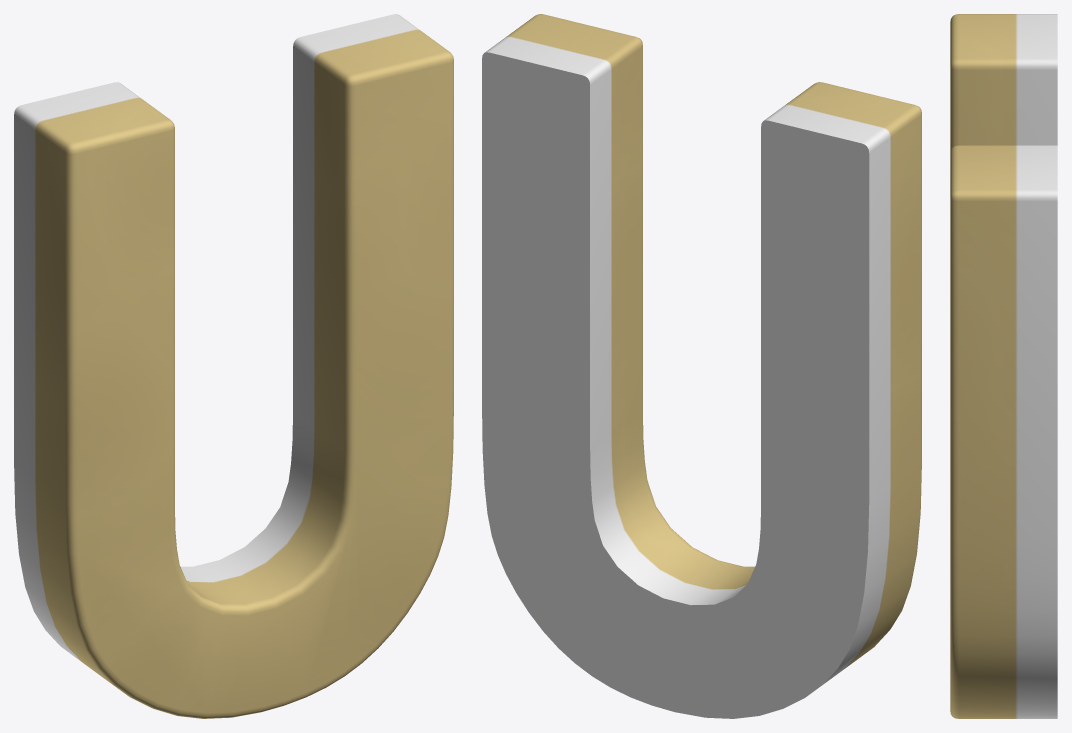
File: LettersLightUp01_U.FBX
3 views of the same model, side by side, from view 1: azimuth 30°, elevation 25°; view 2: azimuth 150°, elevation 25°; view 3: azimuth 270°, elevation 25° (orthographic). The views are drawn at different scales.
Parts seen in each view (by area): view 1: LettersLightUp01_U; view 2: LettersLightUp01_U; view 3: LettersLightUp01_U.
Boxes of the visible parts, x1,y1,x2,y2 form: LettersLightUp01_U: (14, 14, 453, 718); LettersLightUp01_U: (482, 14, 921, 718); LettersLightUp01_U: (950, 14, 1057, 718).
Size of what is drawn, in the model's own units: 0.4058 by 0.6153 by 0.1012.
